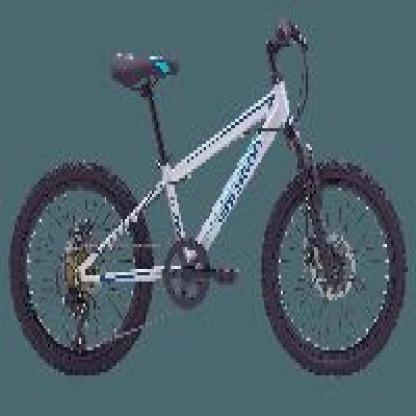Bike: (14, 17, 411, 384)
